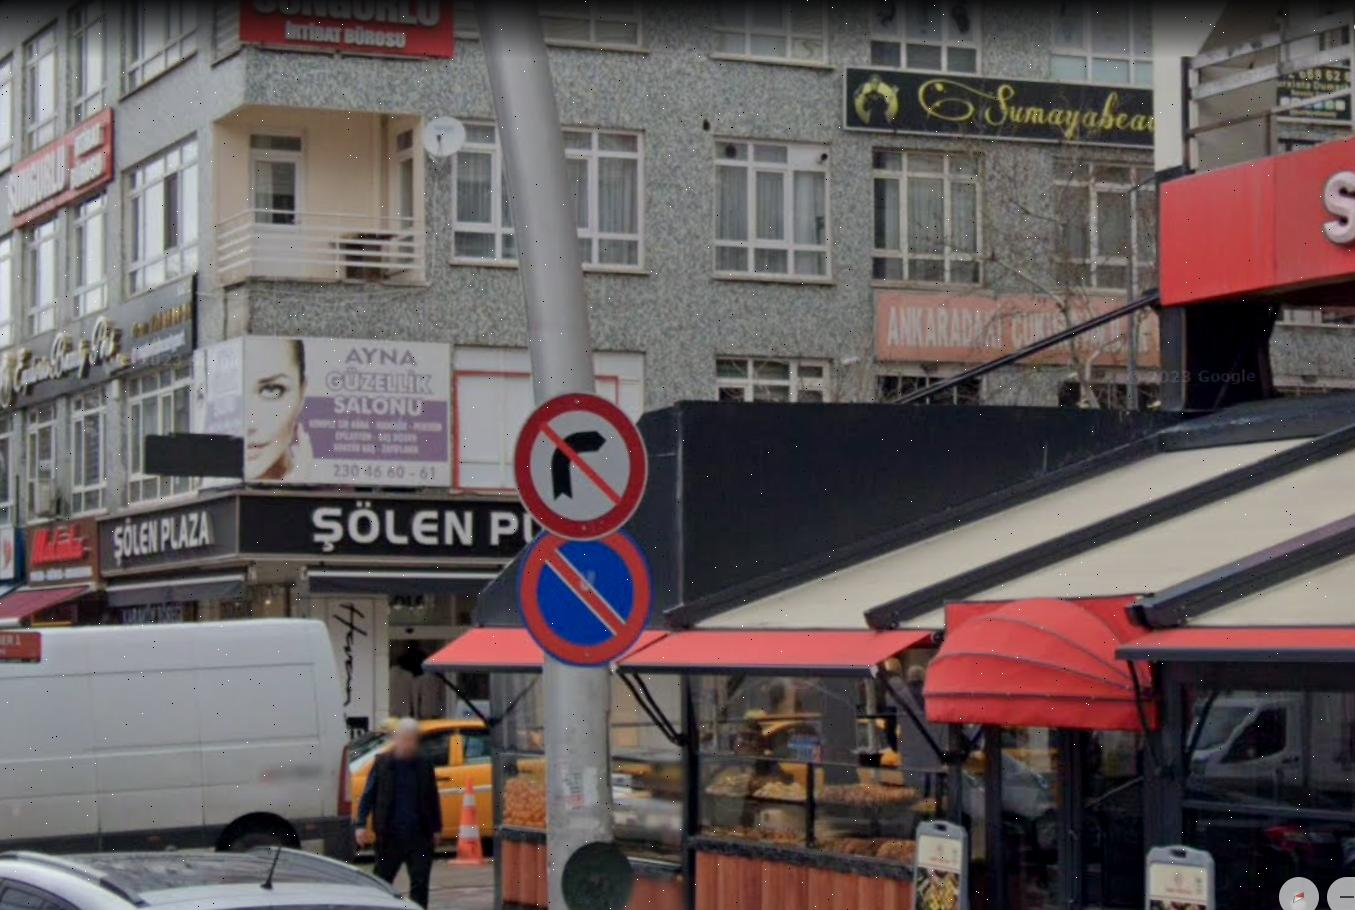rightturnsareforbidden: (506, 383, 661, 549)
